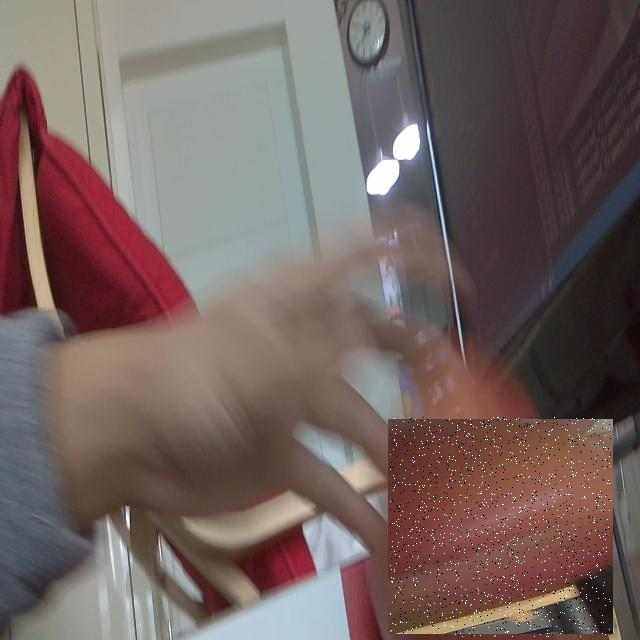apple: (390, 417, 611, 637)
